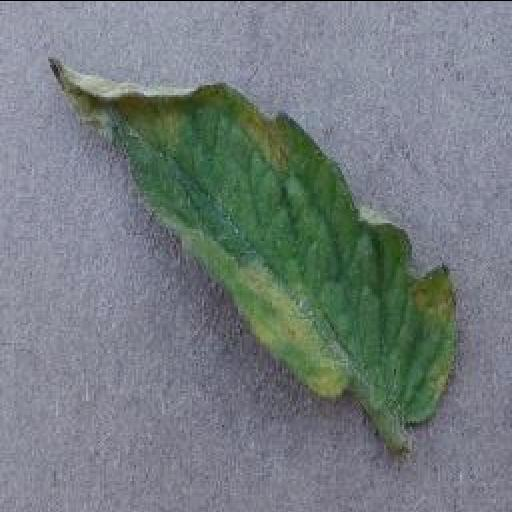disease_tomato: (47, 54, 461, 420)
